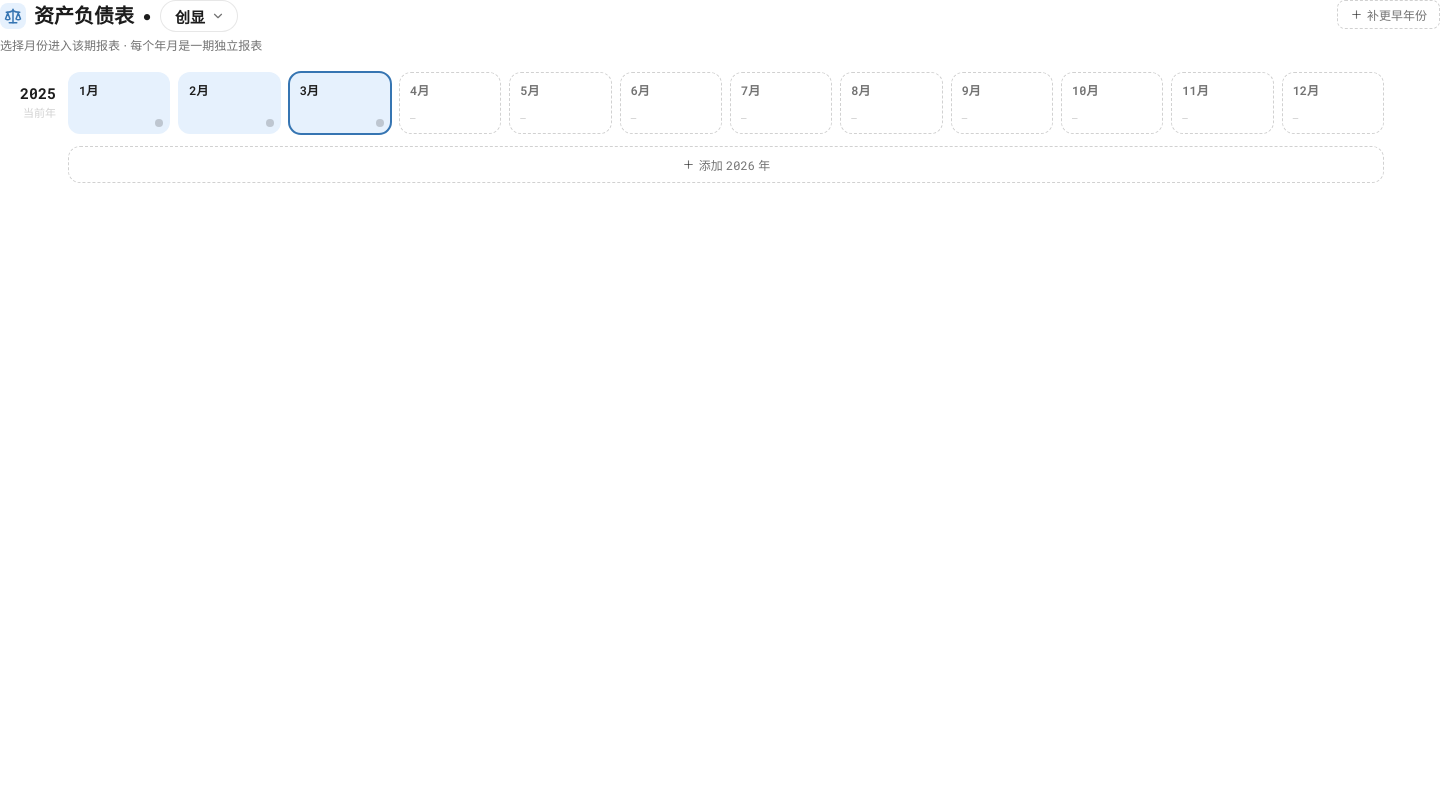
资产负债表 · 期间条 / 公司下拉 / 撤掉的东西 › ❗期间条:「‹ 换期」+ 期 + 公司下拉 + 步骤条(九步);左栏、KPI 卡、页底说明行都没了
Click the button with class "bmm-card" showing "1月": (119, 103) [68, 72, 170, 134]
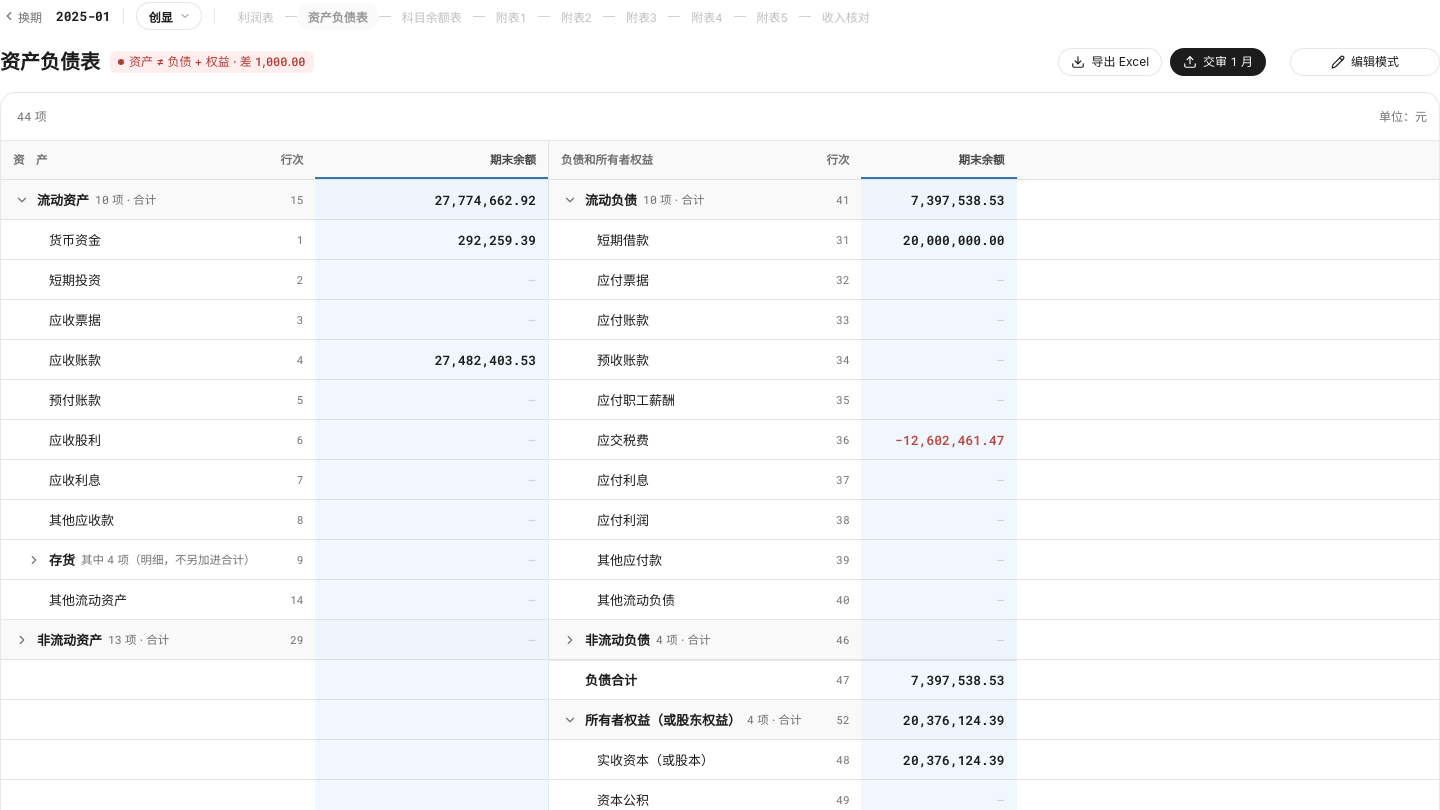
Check: the button with class "fpb-back" reads "换期", box [0, 4, 44, 28]
Check: the text with class "fpb-period" reads "2025-01", box [56, 7, 111, 25]
Check: the number of buttons with class "fss-step" is 9
